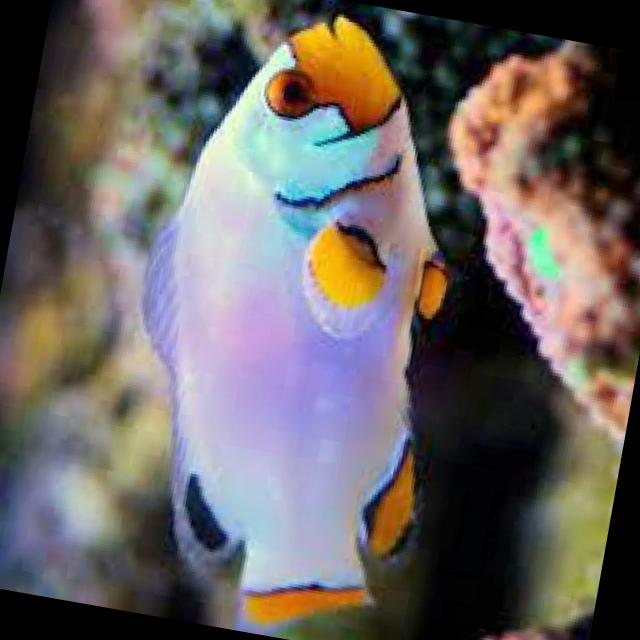ClownFish: (87, 0, 499, 633)
